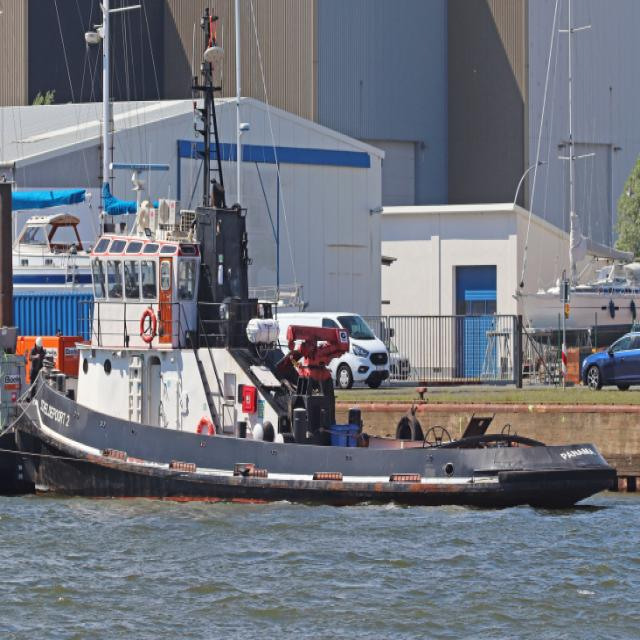tugboat: (13, 176, 623, 522)
